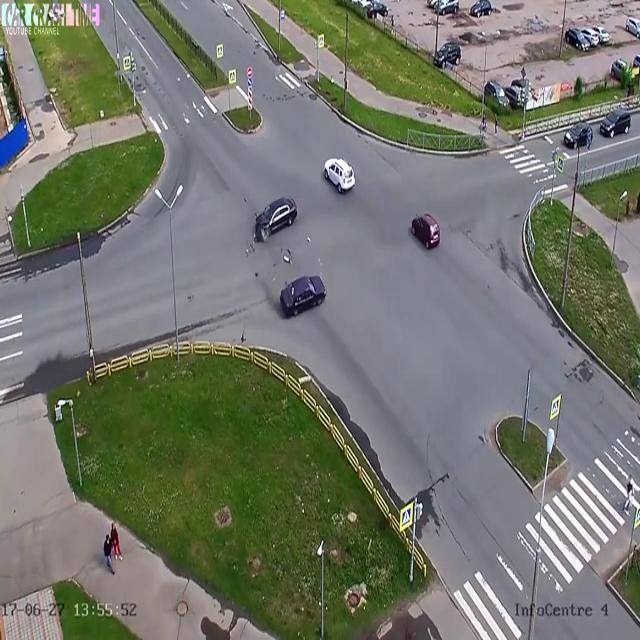accident: (247, 190, 301, 247)
